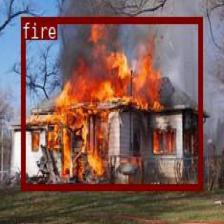fire: (20, 16, 202, 188)
